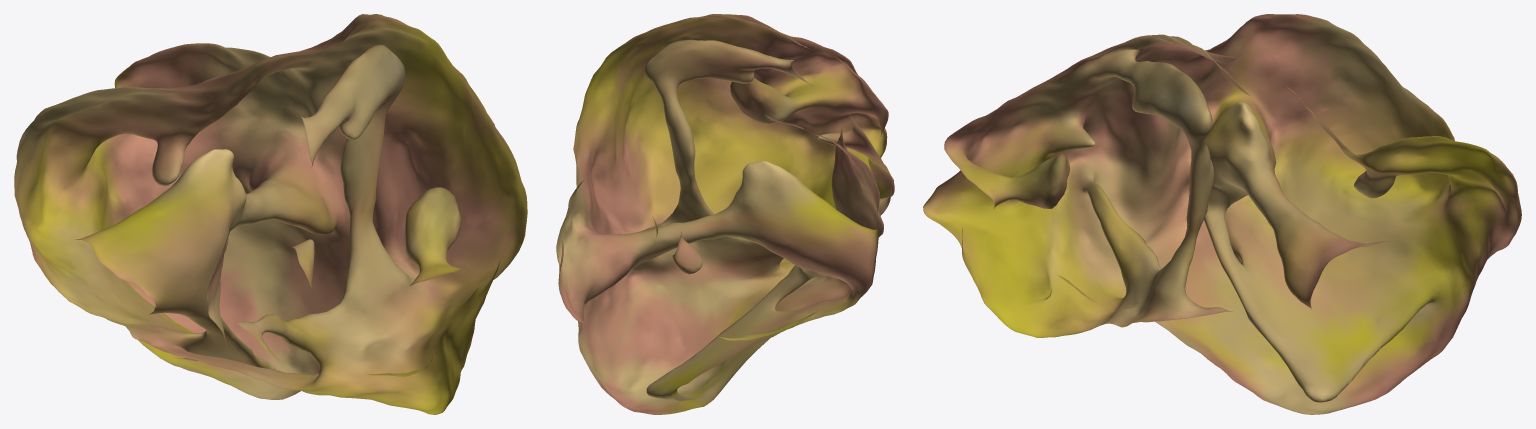
Rendered from Cloud2_LOD0.glb.
3 renders of one model, left to right at view 1: azimuth 30°, elevation 25°; view 2: azimuth 150°, elevation 25°; view 3: azimuth 270°, elevation 25°, orthographic. The views are drawn at different scales.
Visible parts, largest first — view 1: Cloud2_LOD0; view 2: Cloud2_LOD0; view 3: Cloud2_LOD0.
Part boxes in pixels (x1=…): Cloud2_LOD0: x1=14, y1=14, x2=527, y2=414; Cloud2_LOD0: x1=556, y1=14, x2=894, y2=414; Cloud2_LOD0: x1=923, y1=14, x2=1521, y2=414.
Bounding box in the file's own units: 0.4357 × 0.4314 × 0.6268.
